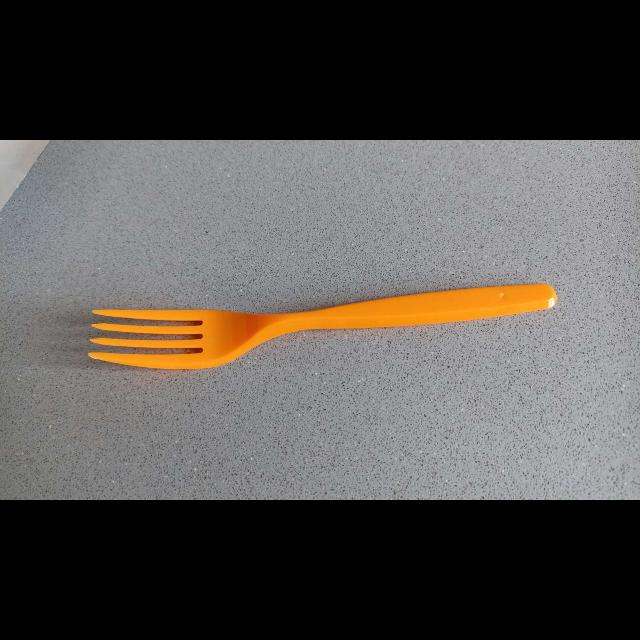plastic_cultery: (89, 278, 562, 374)
